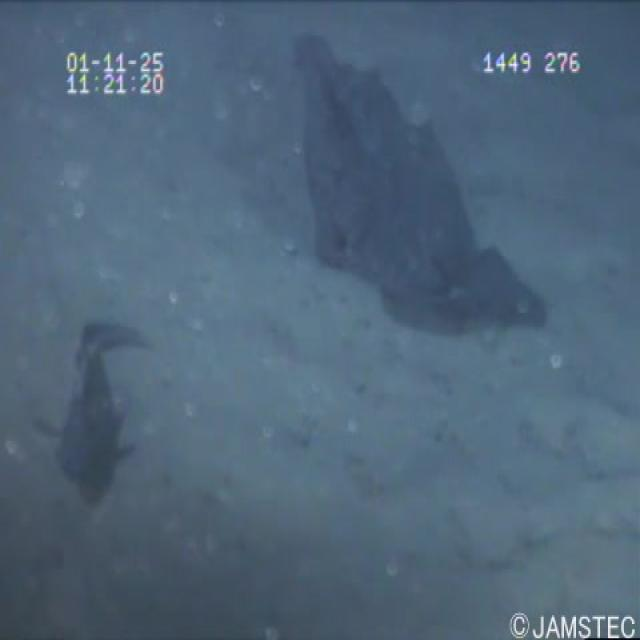plastic: (272, 25, 555, 361)
